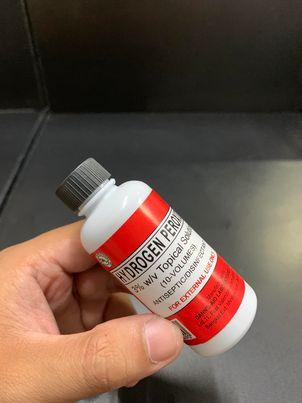-Bottle-: (55, 156, 259, 357)
